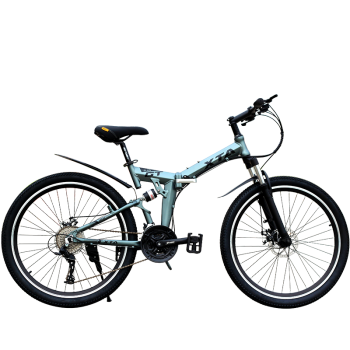单车: (1, 83, 350, 313)
